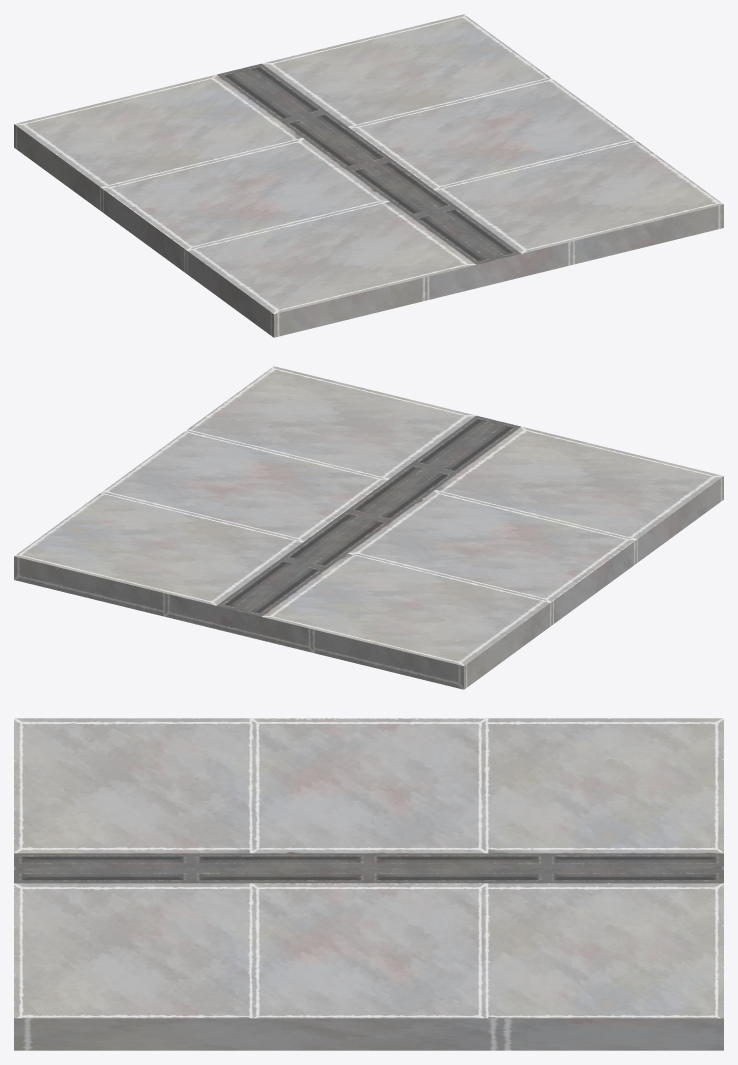
The model's file is SM_Floor_Standard_A.fbx.
3 renders of one model, top to bottom at view 1: azimuth 30°, elevation 25°; view 2: azimuth 150°, elevation 25°; view 3: azimuth 270°, elevation 25°, orthographic. The views are drawn at different scales.
Parts seen in each view (by area): view 1: SM_Floor_Standard_A; view 2: SM_Floor_Standard_A; view 3: SM_Floor_Standard_A.
Part boxes in pixels (x1,y1,x2,y2): SM_Floor_Standard_A: [14, 14, 723, 337]; SM_Floor_Standard_A: [14, 366, 723, 689]; SM_Floor_Standard_A: [14, 718, 723, 1050].
Size of the model in its own units: 200 by 10 by 200.
1 material, 1 textured.
